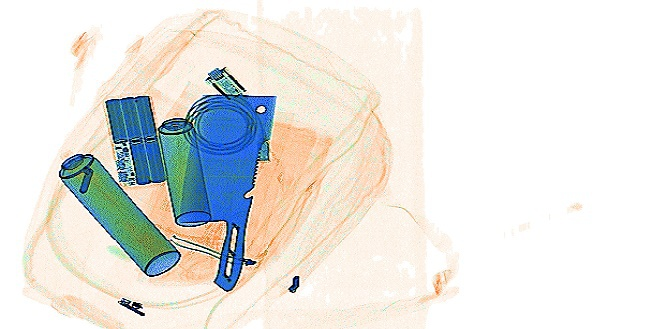knife: (177, 91, 276, 292)
powerbank: (102, 91, 167, 188)
pressure: (55, 148, 181, 278), (155, 111, 212, 228)
